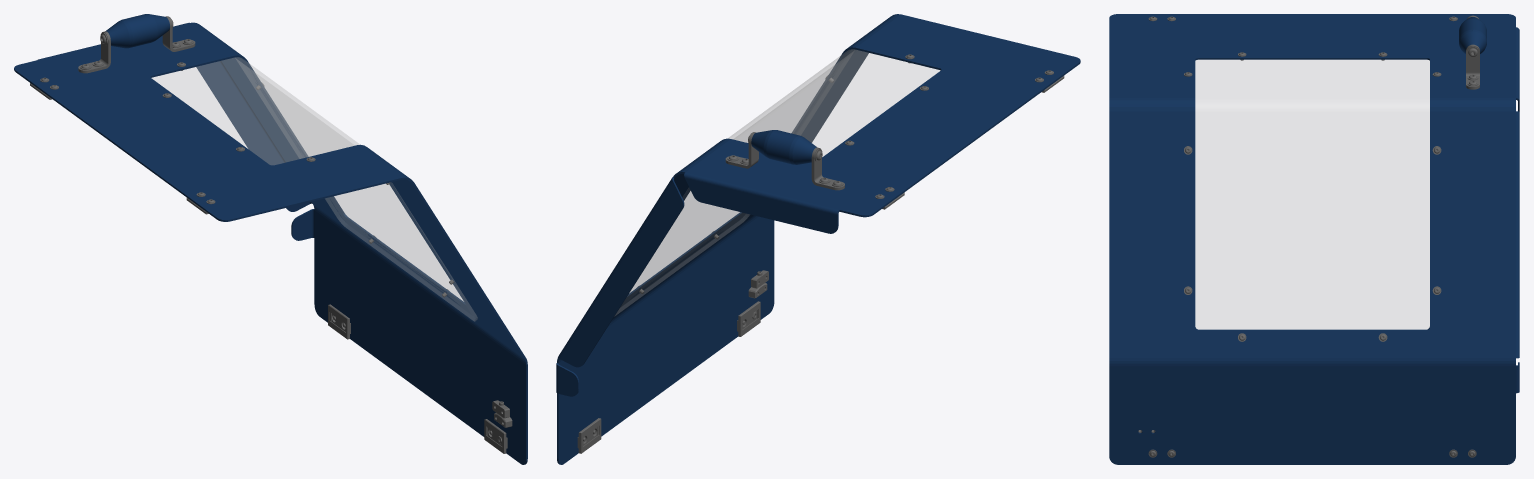
The model's file is shunk_machine_door.dae.
3 renders of one model, left to right at view 1: azimuth 30°, elevation 25°; view 2: azimuth 150°, elevation 25°; view 3: azimuth 270°, elevation 25°, orthographic. The views are drawn at different scales.
Parts seen in each view (by area): view 1: node135, node137, node200; view 2: node135, node137, node200, node141; view 3: node135, node137, node200, node202.
Boxes of the visible parts, x1=… form: node135: x1=14, y1=22, x2=527, y2=464; node137: x1=152, y1=57, x2=477, y2=321; node200: x1=105, y1=14, x2=169, y2=48; node135: x1=556, y1=14, x2=1080, y2=464; node137: x1=615, y1=49, x2=940, y2=315; node200: x1=751, y1=130, x2=816, y2=164; node141: x1=577, y1=418, x2=601, y2=453; node135: x1=1109, y1=14, x2=1519, y2=464; node137: x1=1195, y1=60, x2=1429, y2=329; node200: x1=1459, y1=17, x2=1486, y2=53; node202: x1=1466, y1=44, x2=1479, y2=89.
Bounding box in the file's own units: 0.363 × 0.437 × 0.4065.
